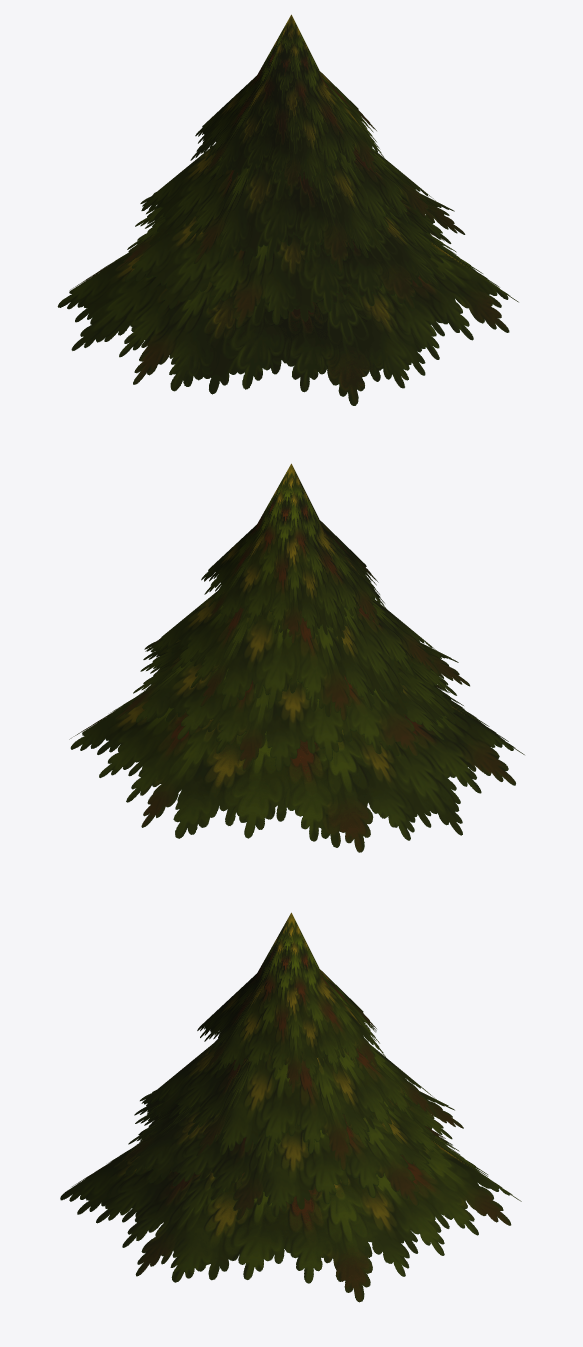
The model's file is PINE1.fbx.
3 views of the same model, one above another, from view 1: azimuth 30°, elevation 25°; view 2: azimuth 150°, elevation 25°; view 3: azimuth 270°, elevation 25° (orthographic).
Parts seen in each view (by area): view 1: cone_bottom, cone_middle_1, cone_middle, pinetop; view 2: cone_bottom, cone_middle_1, cone_middle, pinetop; view 3: cone_bottom, cone_middle, cone_middle_1, pinetop.
Part boxes in pixels (x1=…): cone_bottom: x1=57, y1=232, x2=518, y2=405; cone_middle_1: x1=141, y1=141, x2=435, y2=274; cone_middle: x1=115, y1=187, x2=465, y2=327; pinetop: x1=190, y1=14, x2=384, y2=196; cone_bottom: x1=69, y1=685, x2=524, y2=852; cone_middle_1: x1=145, y1=590, x2=439, y2=721; cone_middle: x1=115, y1=638, x2=469, y2=771; pinetop: x1=201, y1=463, x2=386, y2=646; cone_bottom: x1=60, y1=1126, x2=521, y2=1302; cone_middle: x1=114, y1=1089, x2=463, y2=1220; cone_middle_1: x1=144, y1=1037, x2=436, y2=1170; pinetop: x1=197, y1=912, x2=385, y2=1093.
Size of the model in its own units: 327 by 232 by 369.
Materials: 1 (1 with a texture image).
